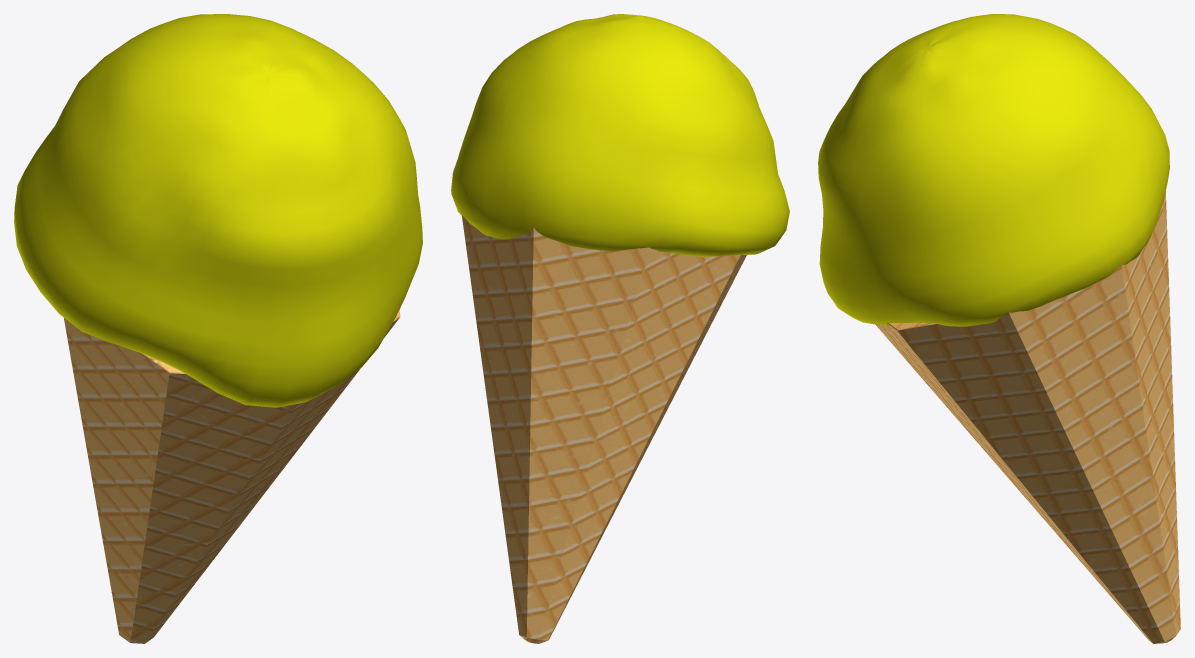
File: idle_helado_solo.fbx
The picture shows the model from 3 angles, left to right: view 1: azimuth 30°, elevation 25°; view 2: azimuth 150°, elevation 25°; view 3: azimuth 270°, elevation 25°; orthographic projection. The views are drawn at different scales.
Parts seen in each view (by area): view 1: polySurface76; view 2: polySurface76; view 3: polySurface76.
Boxes of the visible parts, box(x1,y1,x2,y2) form: polySurface76: box(14, 14, 422, 643); polySurface76: box(451, 14, 789, 643); polySurface76: box(818, 14, 1180, 643).
Size of the model in its own units: 30.84 by 54.69 by 29.7.
Materials: 2 (1 with a texture image).
